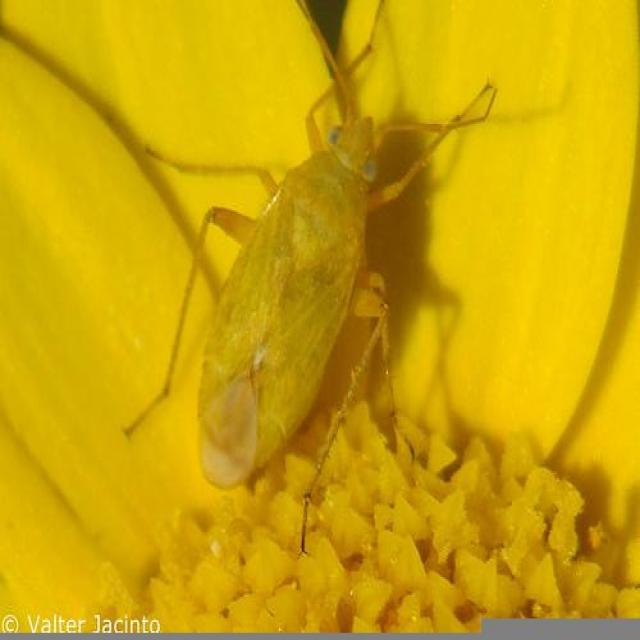Miridae-Adult-: (125, 16, 477, 507)
